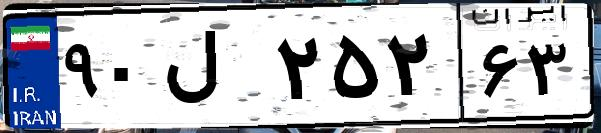0: (110, 28, 158, 98)
2: (270, 28, 330, 110), (385, 28, 445, 110)
3: (525, 38, 570, 115)
5: (330, 28, 385, 110)
6: (475, 38, 525, 113)
9: (57, 26, 110, 100)
ل: (158, 20, 270, 120)
